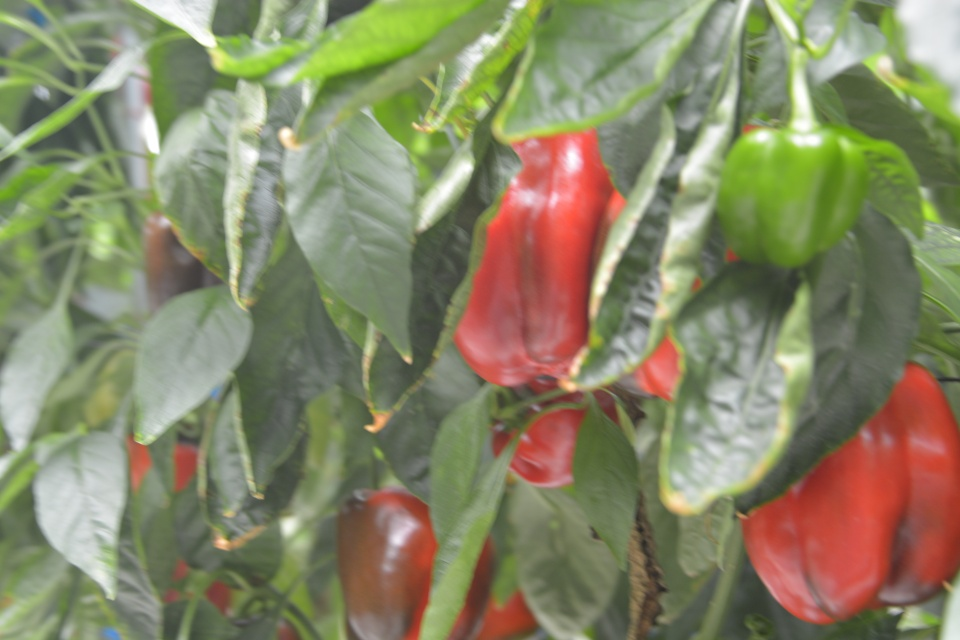fruit: (740, 360, 960, 627), (452, 125, 628, 390), (335, 483, 544, 640), (714, 120, 876, 274), (128, 431, 232, 614), (488, 370, 637, 489), (140, 206, 227, 313)
